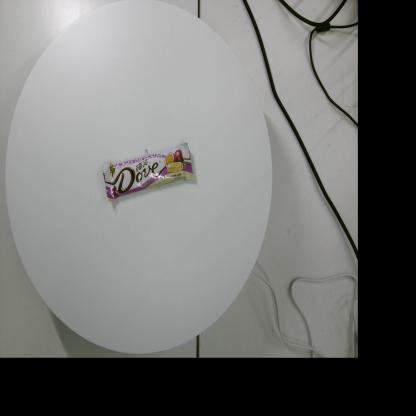Chocolate: (102, 143, 194, 201)
